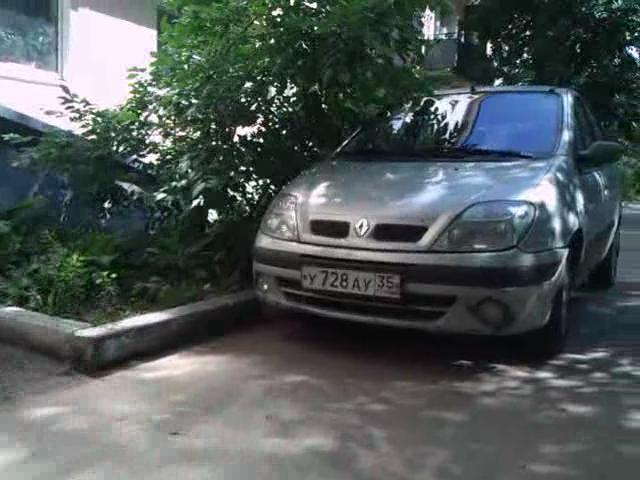car license plate: (300, 261, 407, 306)
